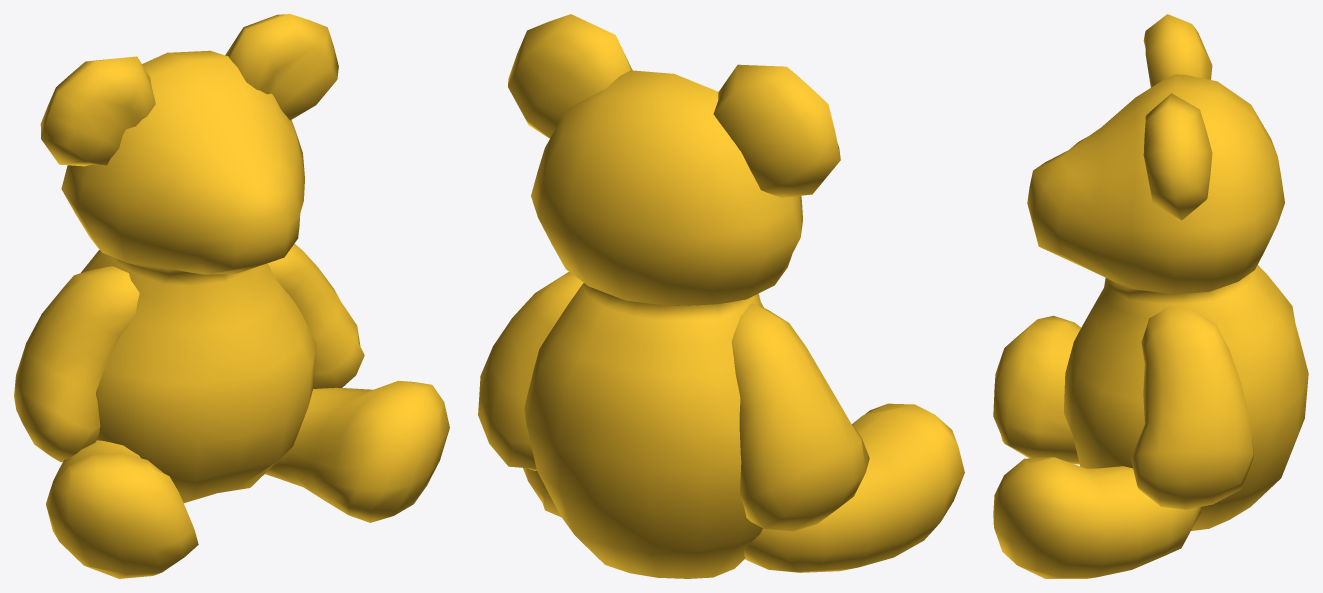
File: Teddy_outline.fbx
3 views of the same model, side by side, from view 1: azimuth 30°, elevation 25°; view 2: azimuth 150°, elevation 25°; view 3: azimuth 270°, elevation 25° (orthographic). The views are drawn at different scales.
Parts seen in each view (by area): view 1: Teddy_outline; view 2: Teddy_outline; view 3: Teddy_outline.
Part boxes in pixels (bbox=[...]): Teddy_outline: bbox=[14, 14, 449, 578]; Teddy_outline: bbox=[478, 14, 964, 578]; Teddy_outline: bbox=[993, 14, 1308, 578].
Size of the model in its own units: 0.3855 by 0.4449 by 0.2791.
